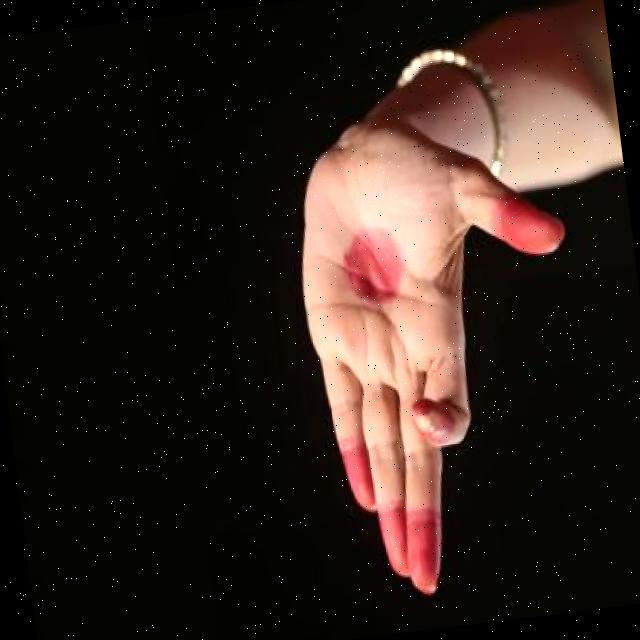Arala: (266, 63, 620, 618)
